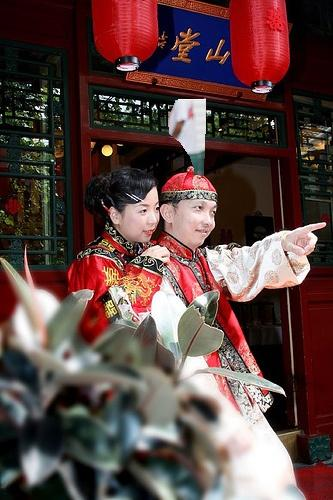tampered: (169, 99, 206, 175)
